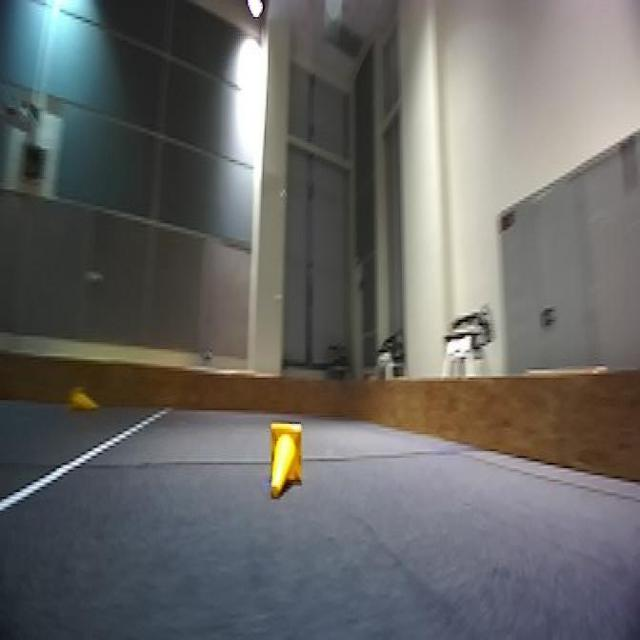frc_cone: (270, 417, 304, 497), (65, 383, 100, 415)
